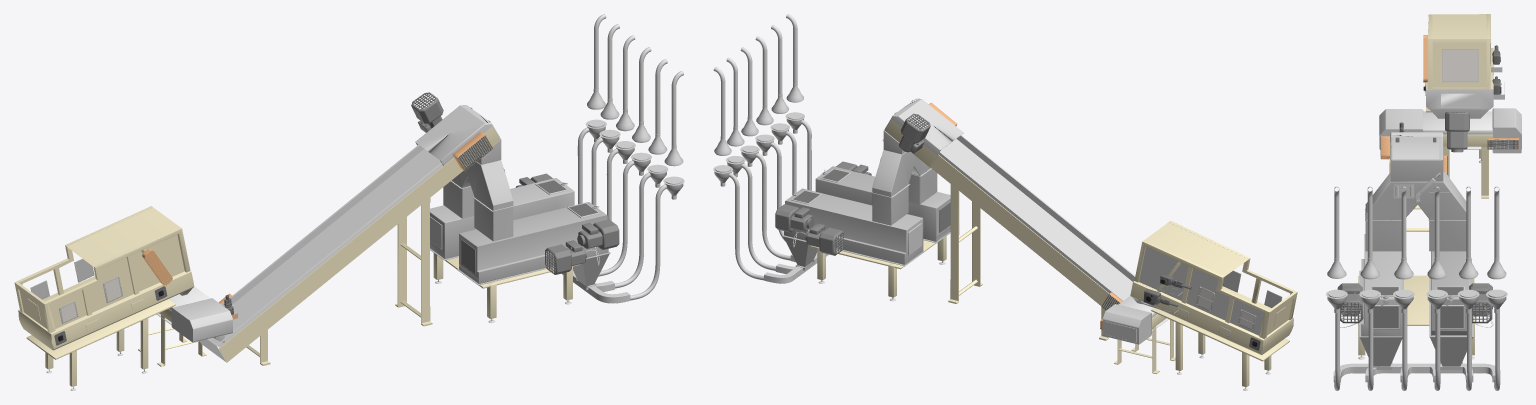
The model's file is wsj.glb.
The picture shows the model from 3 angles, left to right: view 1: azimuth 30°, elevation 25°; view 2: azimuth 150°, elevation 25°; view 3: azimuth 270°, elevation 25°; orthographic projection. The views are drawn at different scales.
Parts seen in each view (by area): view 1: 立方体.034; view 2: 立方体.034; view 3: 立方体.034.
Part boxes in pixels (x1,y1,x2,y2): 立方体.034: [14, 14, 684, 390]; 立方体.034: [713, 14, 1297, 390]; 立方体.034: [1326, 14, 1521, 390].
Size of what is drawn, in the model's own units: 11.55 by 4.06 by 3.21.
